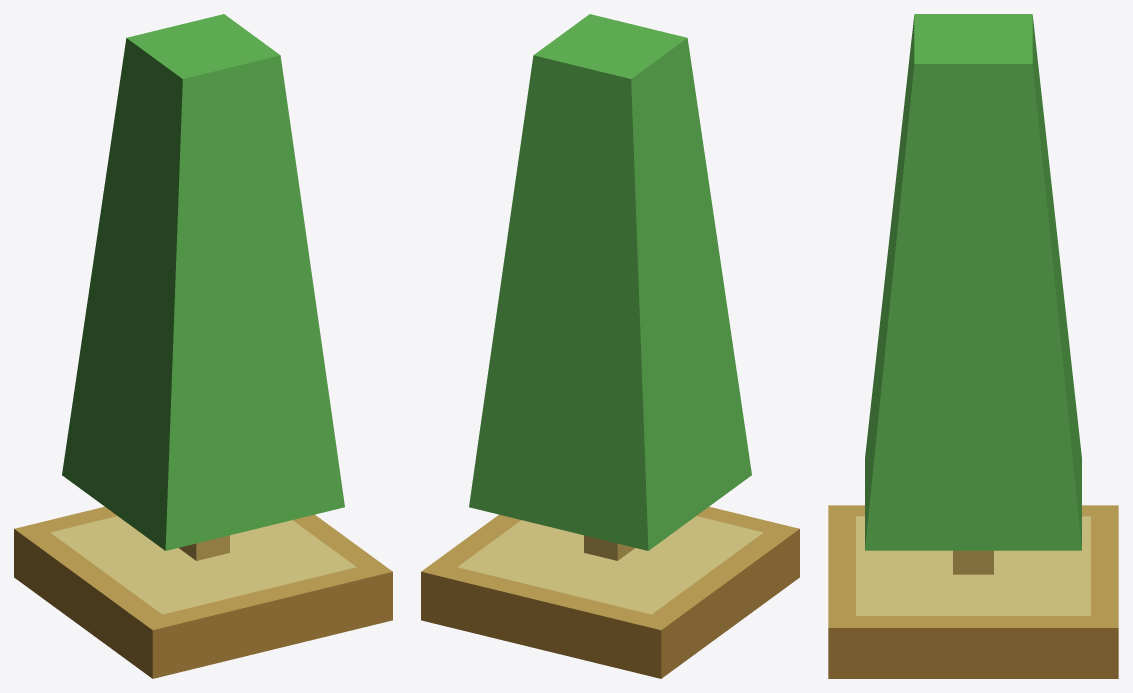
The model's file is Tree_2.fbx.
The picture shows the model from 3 angles, left to right: view 1: azimuth 30°, elevation 25°; view 2: azimuth 150°, elevation 25°; view 3: azimuth 270°, elevation 25°; orthographic projection. The views are drawn at different scales.
Visible parts, largest first — view 1: Tree_2; view 2: Tree_2; view 3: Tree_2.
Boxes of the visible parts, x1,y1,x2,y2 form: Tree_2: (14, 14, 392, 678); Tree_2: (421, 14, 799, 678); Tree_2: (828, 14, 1118, 678).
Size of the model in its own units: 0.5276 by 1.16 by 0.5276.
